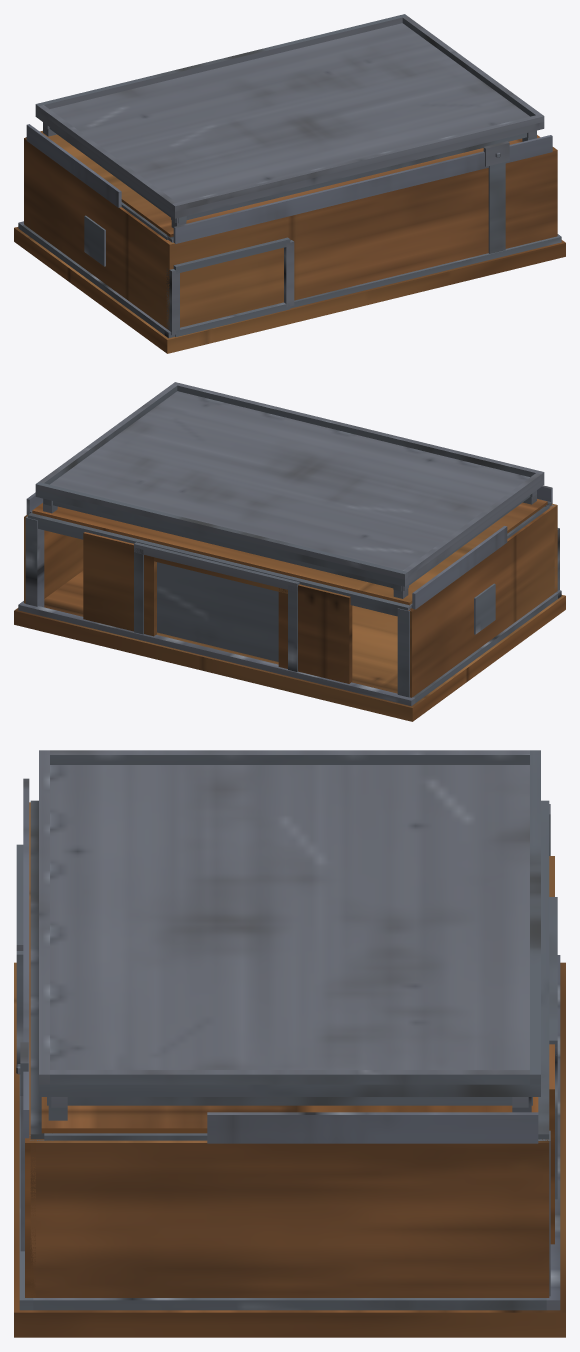
3 renders of one model, top to bottom at view 1: azimuth 30°, elevation 25°; view 2: azimuth 150°, elevation 25°; view 3: azimuth 270°, elevation 25°, orthographic. The views are drawn at different scales.
Parts seen in each view (by area): view 1: SM_HDBF_BoxFarm_Advanced_LOD2; view 2: SM_HDBF_BoxFarm_Advanced_LOD2; view 3: SM_HDBF_BoxFarm_Advanced_LOD2.
Part boxes in pixels (x1,y1,x2,y2): SM_HDBF_BoxFarm_Advanced_LOD2: (14,14,565,353); SM_HDBF_BoxFarm_Advanced_LOD2: (14,382,565,721); SM_HDBF_BoxFarm_Advanced_LOD2: (14,750,565,1337).
Bounding box in the file's own units: 3 × 1 × 2.
4 materials, 4 textured.
